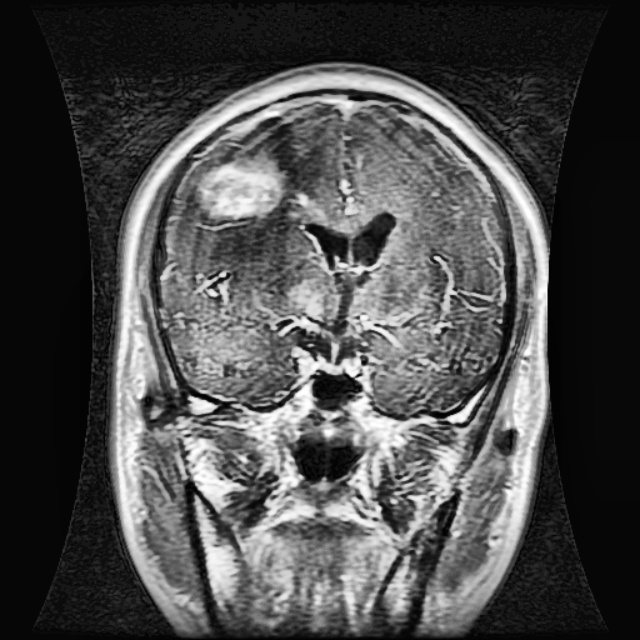Meningioma: (184, 117, 300, 225)
